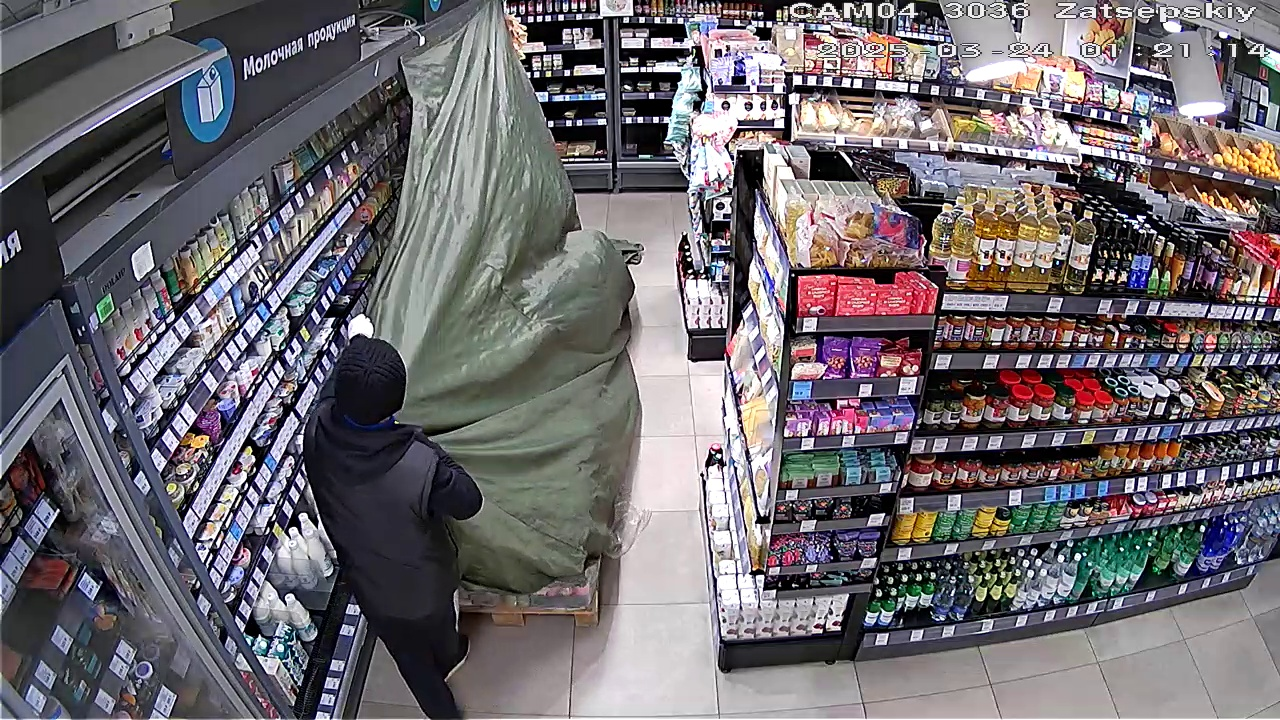Human: (306, 337, 461, 688)
dome: (385, 34, 634, 597)
